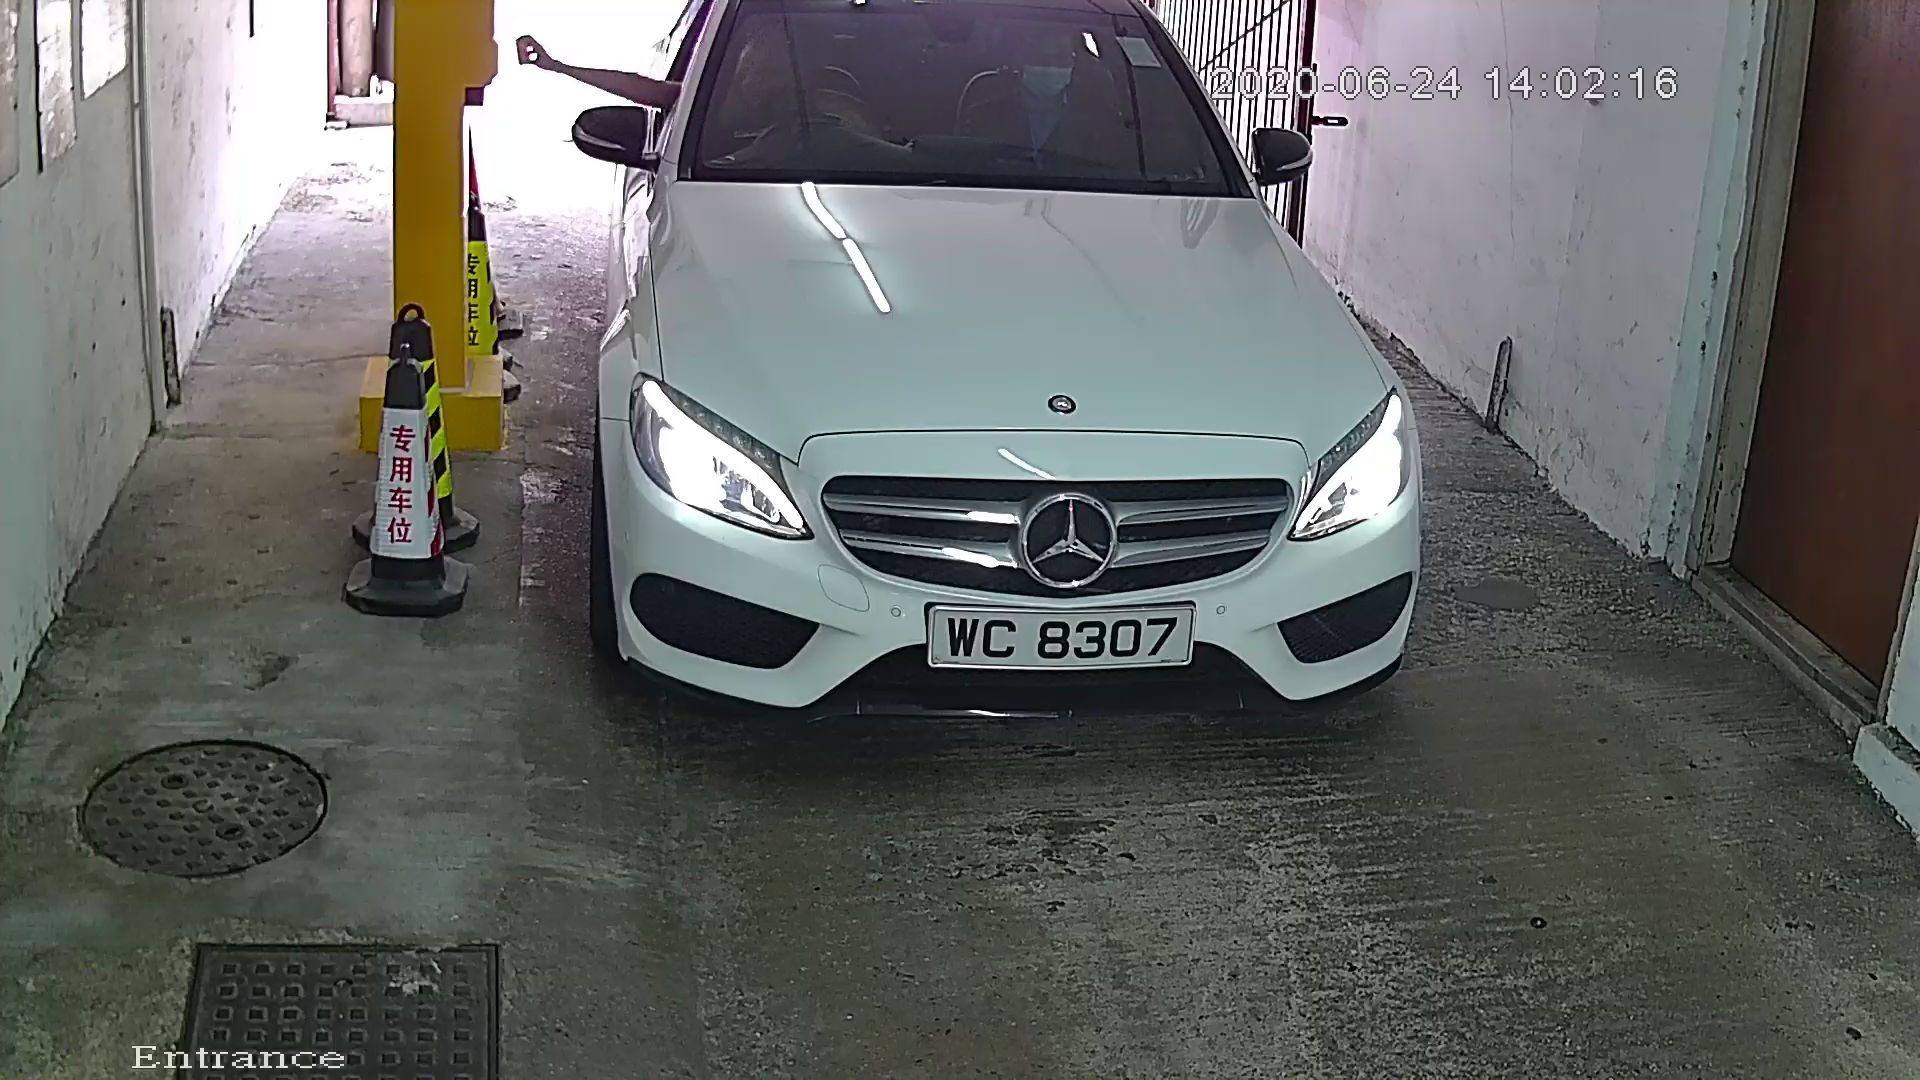Car: (548, 1, 1422, 794)
License Plate: (916, 585, 1211, 685)
